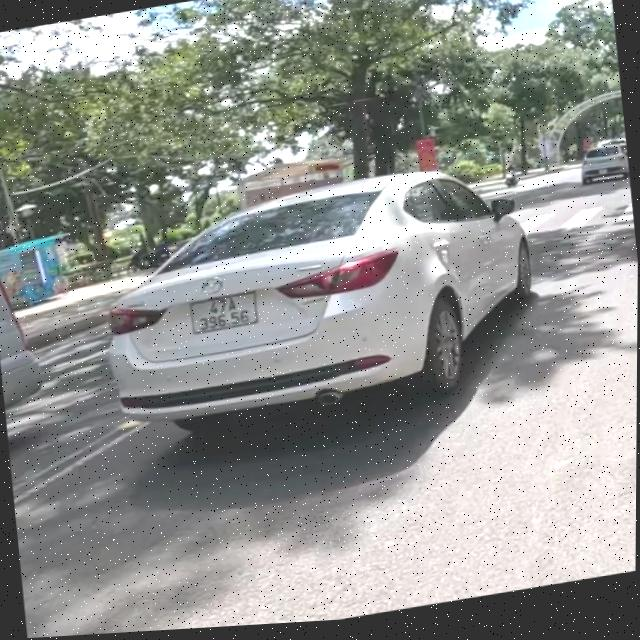car: (90, 149, 549, 451)
plate: (183, 284, 262, 340)
